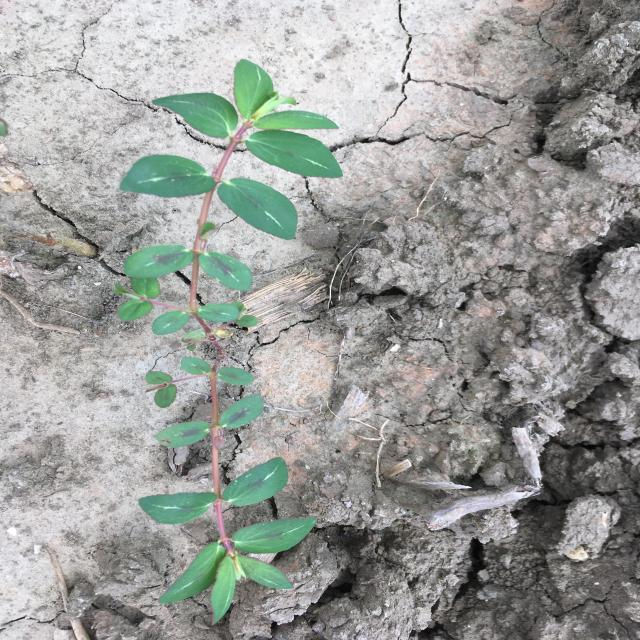SpottedSpurge: (111, 58, 344, 624)
